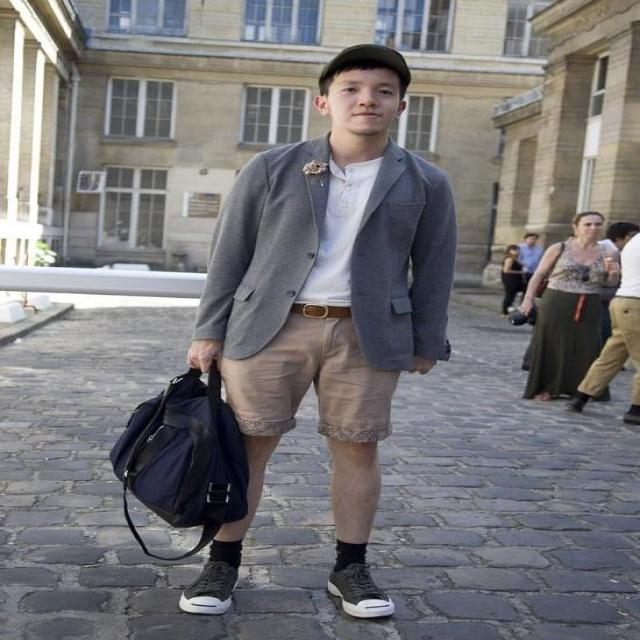short: (221, 302, 402, 444)
sweater: (187, 132, 451, 374)
